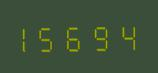five: (42, 20, 65, 53)
four: (114, 19, 137, 51)
nine: (90, 19, 113, 52)
one: (18, 21, 41, 53)
six: (66, 20, 89, 52)
